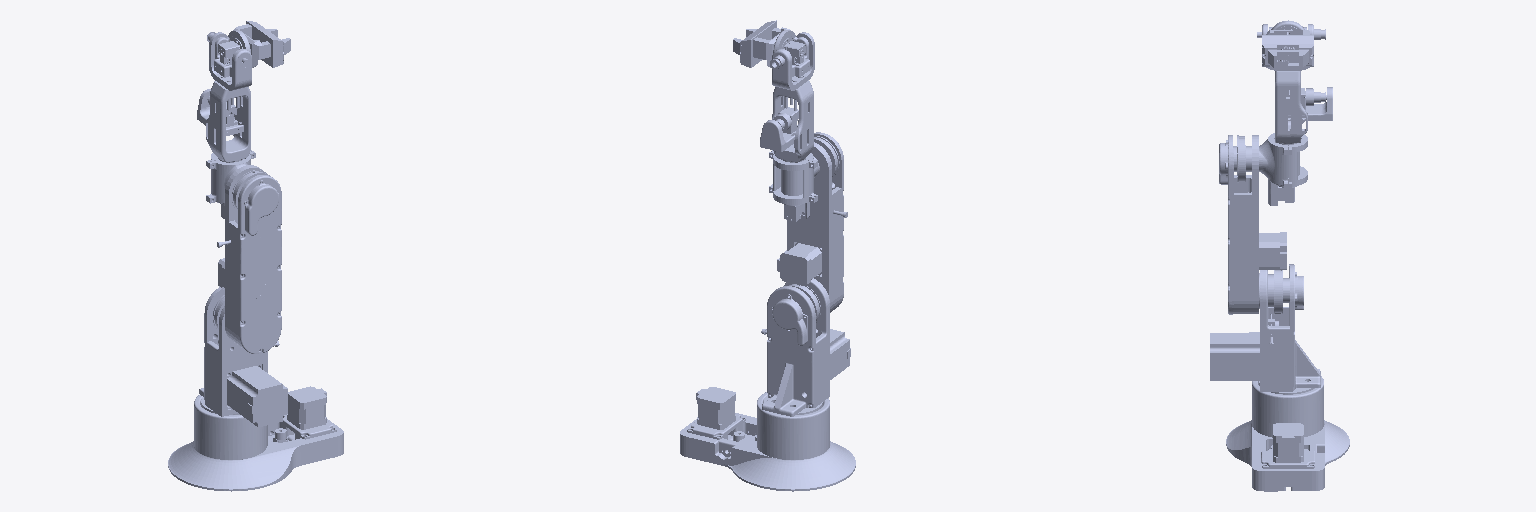
robot.urdf — nick_bot:
<?xml version="1.0" encoding="utf-8"?>
<!-- This URDF was automatically created by SolidWorks to URDF Exporter! Originally created by [author] ([email redacted]) 
     Commit Version: 1.6.0-4-g7f85cfe  Build Version: 1.6.7995.38578
     For more information, please see http://wiki.ros.org/sw_urdf_exporter -->
<robot
  name="nick_bot">
  
  <link name="world"/>
  
  <joint name="base_joint" type="fixed">
    <parent link="world"/>
    <child link="base_link"/>
    <origin rpy="0 0 0" xyz="0.0 0.0 0.0"/>
  </joint>
  
  <link
    name="base_link">
    <inertial>
      <origin
        xyz="0.032405 -0.00051995 0.03193"
        rpy="0 0 0" />
      <mass
        value="1.1011" />
      <inertia
        ixx="0.001263"
        ixy="2.5167E-06"
        ixz="-4.9074E-05"
        iyy="0.0029432"
        iyz="1.9688E-06"
        izz="0.0039215" />
    </inertial>
    <visual>
      <origin
        xyz="0 0 0"
        rpy="0 0 0" />
      <geometry>
        <mesh
          filename="package://nick_bot/meshes/base_link.STL" />
      </geometry>
      <material
        name="">
        <color
          rgba="0.79216 0.81961 0.93333 1" />
      </material>
    </visual>
    <collision>
      <origin
        xyz="0 0 0"
        rpy="0 0 0" />
      <geometry>
        <mesh
          filename="package://nick_bot/meshes/base_link.STL" />
      </geometry>
    </collision>
  </link>
  <link
    name="link_1">
    <inertial>
      <origin
        xyz="0.00014233 0.11339 0.028392"
        rpy="0 0 0" />
      <mass
        value="0.6335" />
      <inertia
        ixx="0.00068202"
        ixy="-8.016E-07"
        ixz="4.9488E-07"
        iyy="0.00030667"
        iyz="-4.7343E-05"
        izz="0.00081798" />
    </inertial>
    <visual>
      <origin
        xyz="0 0 0"
        rpy="0 0 0" />
      <geometry>
        <mesh
          filename="package://nick_bot/meshes/link_1.STL" />
      </geometry>
      <material
        name="">
        <color
          rgba="0.79216 0.81961 0.93333 1" />
      </material>
    </visual>
    <collision>
      <origin
        xyz="0 0 0"
        rpy="0 0 0" />
      <geometry>
        <mesh
          filename="package://nick_bot/meshes/link_1.STL" />
      </geometry>
    </collision>
  </link>
  <joint
    name="joint_1"
    type="revolute">
    <origin
      xyz="0 0 0.0305"
      rpy="1.5708 0 0" />
    <parent
      link="base_link" />
    <child
      link="link_1" />
    <axis
      xyz="0 -1 0" />
    <limit
      lower="-3.5"
      upper="3.5"
      effort="0"
      velocity="0" />
  </joint>
  <link
    name="link_2">
    <inertial>
      <origin
        xyz="0.00022044 0.091028 0.053199"
        rpy="0 0 0" />
      <mass
        value="0.52734" />
      <inertia
        ixx="0.0016362"
        ixy="-1.1139E-06"
        ixz="5.8726E-07"
        iyy="0.00020546"
        iyz="3.2563E-05"
        izz="0.0017886" />
    </inertial>
    <visual>
      <origin
        xyz="0 0 0"
        rpy="0 0 0" />
      <geometry>
        <mesh
          filename="package://nick_bot/meshes/link_2.STL" />
      </geometry>
      <material
        name="">
        <color
          rgba="0.79216 0.81961 0.93333 1" />
      </material>
    </visual>
    <collision>
      <origin
        xyz="0 0 0"
        rpy="0 0 0" />
      <geometry>
        <mesh
          filename="package://nick_bot/meshes/link_2.STL" />
      </geometry>
    </collision>
  </link>
  <joint
    name="joint_2"
    type="revolute">
    <origin
      xyz="0 0.20125 0.0011675"
      rpy="0 0 0" />
    <parent
      link="link_1" />
    <child
      link="link_2" />
    <axis
      xyz="-0.0042062 0 0.99999" />
    <limit
      lower="-1.6"
      upper="1.6"
      effort="0"
      velocity="0" />
  </joint>
  <link
    name="link_3">
    <inertial>
      <origin
        xyz="5.0355E-05 -0.010892 0.010933"
        rpy="0 0 0" />
      <mass
        value="0.11306" />
      <inertia
        ixx="4.9032E-05"
        ixy="-6.8837E-09"
        ixz="3.2674E-08"
        iyy="3.6024E-05"
        iyz="-7.0703E-07"
        izz="5.732E-05" />
    </inertial>
    <visual>
      <origin
        xyz="0 0 0"
        rpy="0 0 0" />
      <geometry>
        <mesh
          filename="package://nick_bot/meshes/link_3.STL" />
      </geometry>
      <material
        name="">
        <color
          rgba="0.79216 0.81961 0.93333 1" />
      </material>
    </visual>
    <collision>
      <origin
        xyz="0 0 0"
        rpy="0 0 0" />
      <geometry>
        <mesh
          filename="package://nick_bot/meshes/link_3.STL" />
      </geometry>
    </collision>
  </link>
  <joint
    name="joint_3"
    type="revolute">
    <origin
      xyz="0 0.2 0"
      rpy="0 0 0" />
    <parent
      link="link_2" />
    <child
      link="link_3" />
    <axis
      xyz="0.0042062 0 0.99999" />
    <limit
      lower="-2"
      upper="2"
      effort="0"
      velocity="0" />
  </joint>
  <link
    name="link_4">
    <inertial>
      <origin
        xyz="-3.1646E-05 0.081245 -0.0074944"
        rpy="0 0 0" />
      <mass
        value="0.21005" />
      <inertia
        ixx="0.00036978"
        ixy="9.3158E-09"
        ixz="-5.2964E-08"
        iyy="7.2293E-05"
        iyz="2.4139E-06"
        izz="0.00035723" />
    </inertial>
    <visual>
      <origin
        xyz="0 0 0"
        rpy="0 0 0" />
      <geometry>
        <mesh
          filename="package://nick_bot/meshes/link_4.STL" />
      </geometry>
      <material
        name="">
        <color
          rgba="0.79216 0.81961 0.93333 1" />
      </material>
    </visual>
    <collision>
      <origin
        xyz="0 0 0"
        rpy="0 0 0" />
      <geometry>
        <mesh
          filename="package://nick_bot/meshes/link_4.STL" />
      </geometry>
    </collision>
  </link>
  <joint
    name="joint_4"
    type="revolute">
    <origin
      xyz="0 0 -0.0011675"
      rpy="0 0 0" />
    <parent
      link="link_3" />
    <child
      link="link_4" />
    <axis
      xyz="0 1 0" />
    <limit
      lower="-4"
      upper="4"
      effort="0"
      velocity="0" />
  </joint>
  <link
    name="link_5">
    <inertial>
      <origin
        xyz="0.0027735 -0.011173 -1.3036E-05"
        rpy="0 0 0" />
      <mass
        value="0.049088" />
      <inertia
        ixx="1.7829E-05"
        ixy="-1.0477E-06"
        ixz="-3.0628E-08"
        iyy="1.3411E-05"
        iyz="2.9316E-09"
        izz="1.0527E-05" />
    </inertial>
    <visual>
      <origin
        xyz="0 0 0"
        rpy="0 0 0" />
      <geometry>
        <mesh
          filename="package://nick_bot/meshes/link_5.STL" />
      </geometry>
      <material
        name="">
        <color
          rgba="0.79216 0.81961 0.93333 1" />
      </material>
    </visual>
    <collision>
      <origin
        xyz="0 0 0"
        rpy="0 0 0" />
      <geometry>
        <mesh
          filename="package://nick_bot/meshes/link_5.STL" />
      </geometry>
    </collision>
  </link>
  <joint
    name="joint_5"
    type="revolute">
    <origin
      xyz="0 0.18825 0"
      rpy="-7.0292E-05 0 -0.016712" />
    <parent
      link="link_4" />
    <child
      link="link_5" />
    <axis
      xyz="-0.0042056 0 -0.99999" />
    <limit
      lower="-3.50"
      upper="0.36"
      effort="0"
      velocity="0" />
  </joint>
  <link
    name="link_6">
    <inertial>
      <origin
        xyz="0.00056302 -0.0002805 0.029374"
        rpy="0 0 0" />
      <mass
        value="0.055212" />
      <inertia
        ixx="7.7928E-06"
        ixy="-1.6204E-07"
        ixz="-2.5483E-07"
        iyy="2.5129E-05"
        iyz="-4.2094E-07"
        izz="2.9561E-05" />
    </inertial>
    <visual>
      <origin
        xyz="0 0 0"
        rpy="0 0 0" />
      <geometry>
        <mesh
          filename="package://nick_bot/meshes/link_6.STL" />
      </geometry>
      <material
        name="">
        <color
          rgba="0.79216 0.81961 0.93333 1" />
      </material>
    </visual>
    <collision>
      <origin
        xyz="0 0 0"
        rpy="0 0 0" />
      <geometry>
        <mesh
          filename="package://nick_bot/meshes/link_6.STL" />
      </geometry>
    </collision>
  </link>
  <joint
    name="joint_6"
    type="revolute">
    <origin
      xyz="0.0099995 0.00016713 -4.2055E-05"
      rpy="3.1249 1.5666 3.1416" />
    <parent
      link="link_5" />
    <child
      link="link_6" />
    <axis
      xyz="0 0 -1" />
    <limit
      lower="-3.14159"
      upper="3.14159"
      effort="0"
      velocity="0" />
  </joint>
  <link
    name="EndEffector1">
    <inertial>
      <origin
        xyz="-0.020182 0.010425 0.010888"
        rpy="0 0 0" />
      <mass
        value="0.0066653" />
        <inertia ixx="0.0001" ixy="0.000"  ixz="0.000"  
         iyy="0.0001" iyz="0.000"
         izz="0.0001"/>
    </inertial>
    <visual>
      <origin
        xyz="0 0 0"
        rpy="0 0 0" />
      <geometry>
        <mesh
          filename="package://nick_bot/meshes/EndEffector1.STL" />
      </geometry>
      <material
        name="">
        <color
          rgba="0.79216 0.81961 0.93333 1" />
      </material>
    </visual>
    <collision>
      <origin
        xyz="0 0 0"
        rpy="0 0 0" />
      <geometry>
        <mesh
          filename="package://nick_bot/meshes/EndEffector1.STL" />
      </geometry>
    </collision>
  </link>
  <joint
    name="joint_7"
    type="prismatic">
    <origin
      xyz="0 -0.015375 0.044556"
      rpy="0 0 0" />
    <parent
      link="link_6" />
    <child
      link="EndEffector1" />
    <axis
      xyz="1 0 0" />
    <limit
      lower="0"
      upper="0.02"
      effort="0"
      velocity="0" />
  </joint>
  <link
    name="EndEffector2">
    <inertial>
      <origin
        xyz="-0.02017 0.010554 0.010975"
        rpy="0 0 0" />
      <mass
        value="0.0066318" />
      <inertia ixx="0.0001" ixy="0.000"  ixz="0.000"  
         iyy="0.0001" iyz="0.000"
         izz="0.0001"/>
    </inertial>
    <visual>
      <origin
        xyz="0 0 0"
        rpy="0 0 0" />
      <geometry>
        <mesh
          filename="package://nick_bot/meshes/EndEffector2.STL" />
      </geometry>
      <material
        name="">
        <color
          rgba="0.79216 0.81961 0.93333 1" />
      </material>
    </visual>
    <collision>
      <origin
        xyz="0 0 0"
        rpy="0 0 0" />
      <geometry>
        <mesh
          filename="package://nick_bot/meshes/EndEffector2.STL" />
      </geometry>
    </collision>
  </link>
  <joint
    name="joint_8"
    type="prismatic">
    <origin
      xyz="0 0.009575 0.044556"
      rpy="0 0 3.1416" />
    <parent
      link="link_6" />
    <child
      link="EndEffector2" />
    <axis
      xyz="1 0 0" />
    <limit
      lower="0"
      upper="0.02"
      effort="0"
      velocity="0" />
    <mimic joint="joint_7"/>  
  </joint>

  
    <transmission name="link_1_trans">
    <type>transmission_interface/SimpleTransmission</type>
   <joint name="joint_1">
     <hardwareInterface>hardware_interface/VelocityJointInterface</hardwareInterface>
   </joint>
   <actuator name="link_1_motor">
   
   <hardwareInterface>hardware_interface/VelocityJointInterface</hardwareInterface>
       <mechanicalReduction>1</mechanicalReduction>
   </actuator>
   	</transmission>
   
     <transmission name="link_2_trans">
    <type>transmission_interface/SimpleTransmission</type>
   <joint name="joint_2">
     <hardwareInterface>hardware_interface/VelocityJointInterface</hardwareInterface>
   </joint>
   <actuator name="link_2_motor">
   
   <hardwareInterface>hardware_interface/VelocityJointInterface</hardwareInterface>
       <mechanicalReduction>1</mechanicalReduction>
   </actuator>
   	</transmission>
   
     <transmission name="link_3_trans">
    <type>transmission_interface/SimpleTransmission</type>
   <joint name="joint_3">
     <hardwareInterface>hardware_interface/VelocityJointInterface</hardwareInterface>
   </joint>
   <actuator name="link_3_motor">
   
   <hardwareInterface>hardware_interface/VelocityJointInterface</hardwareInterface>
       <mechanicalReduction>1</mechanicalReduction>
   </actuator>
	</transmission>
	
	<transmission name="link_4_trans">
    <type>transmission_interface/SimpleTransmission</type>
   <joint name="joint_4">
     <hardwareInterface>hardware_interface/PositionJointInterface</hardwareInterface>
   </joint>
   <actuator name="link_4_motor">
   
   <hardwareInterface>hardware_interface/PositionJointInterface</hardwareInterface>
       <mechanicalReduction>1</mechanicalReduction>
   </actuator>
	</transmission>
	
	<transmission name="link_5_trans">
    <type>transmission_interface/SimpleTransmission</type>
   <joint name="joint_5">
     <hardwareInterface>hardware_interface/PositionJointInterface</hardwareInterface>
   </joint>
   <actuator name="link_5_motor">
   
   <hardwareInterface>hardware_interface/PositionJointInterface</hardwareInterface>
       <mechanicalReduction>1</mechanicalReduction>
   </actuator>
	</transmission>
	
	<transmission name="link_6_trans">
    <type>transmission_interface/SimpleTransmission</type>
   <joint name="joint_6">
     <hardwareInterface>hardware_interface/PositionJointInterface</hardwareInterface>
   </joint>
   <actuator name="link_6_motor">
   
   <hardwareInterface>hardware_interface/PositionJointInterface</hardwareInterface>
       <mechanicalReduction>1</mechanicalReduction>
   </actuator>
	</transmission>
	
	<transmission name="link_7_trans">
    <type>transmission_interface/SimpleTransmission</type>
   <joint name="joint_7">
     <hardwareInterface>hardware_interface/PositionJointInterface</hardwareInterface>
   </joint>
   <actuator name="link_7_motor">
   
   <hardwareInterface>hardware_interface/PositionJointInterface</hardwareInterface>
       <mechanicalReduction>1</mechanicalReduction>
   </actuator>
	</transmission>
	
	<transmission name="link_8_trans">
    <type>transmission_interface/SimpleTransmission</type>
   <joint name="joint_8">
     <hardwareInterface>hardware_interface/PositionJointInterface</hardwareInterface>
   </joint>
   <actuator name="link_8_motor">
   
   <hardwareInterface>hardware_interface/PositionJointInterface</hardwareInterface>
       <mechanicalReduction>1</mechanicalReduction>
   </actuator>
	</transmission>
</robot>

--- Render facts (derived) ---
The picture shows the robot from 3 angles, left to right: view 1: azimuth 30°, elevation 25°; view 2: azimuth 150°, elevation 25°; view 3: azimuth 270°, elevation 25°; orthographic projection.
Model nick_bot with 10 links and 9 joints (6 revolute, 2 prismatic, 1 fixed), rooted at world, posed every joint at zero.
Links seen in each view (by area): view 1: base_link, link_2, link_1, link_4, link_6, link_3, link_5; view 2: base_link, link_1, link_2, link_4, link_3, link_6, link_5; view 3: base_link, link_1, link_2, link_4, link_3, link_6.
Boxes of the visible links, x1,y1,x2,y2 form: base_link: [168, 386, 343, 491]; link_2: [217, 165, 281, 353]; link_1: [199, 287, 287, 427]; link_4: [197, 32, 251, 162]; link_6: [232, 21, 283, 67]; link_3: [206, 150, 255, 218]; link_5: [214, 30, 250, 76]; base_link: [680, 387, 855, 491]; link_1: [761, 278, 850, 416]; link_2: [777, 132, 847, 312]; link_4: [760, 32, 814, 162]; link_3: [769, 150, 819, 221]; link_6: [740, 20, 791, 67]; link_5: [773, 30, 809, 76]; base_link: [1226, 376, 1349, 491]; link_1: [1210, 264, 1320, 394]; link_2: [1219, 135, 1286, 314]; link_4: [1257, 24, 1332, 145]; link_3: [1259, 133, 1307, 205]; link_6: [1262, 29, 1313, 66].
Bounding box of the posed robot: 0.2401 × 0.1921 × 0.646 m (x, y, z).
9 mesh visuals loaded from 9 distinct referenced files (9 binary STL).
